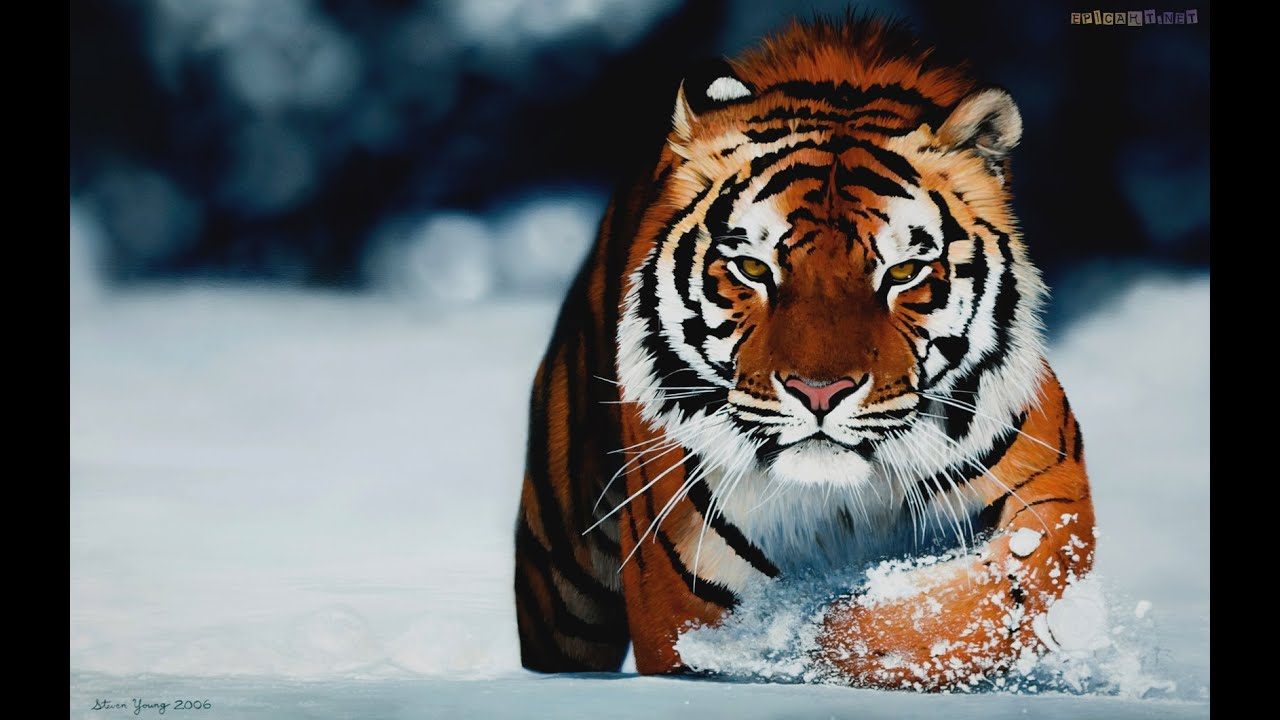Tigrew: (547, 41, 1150, 700)
